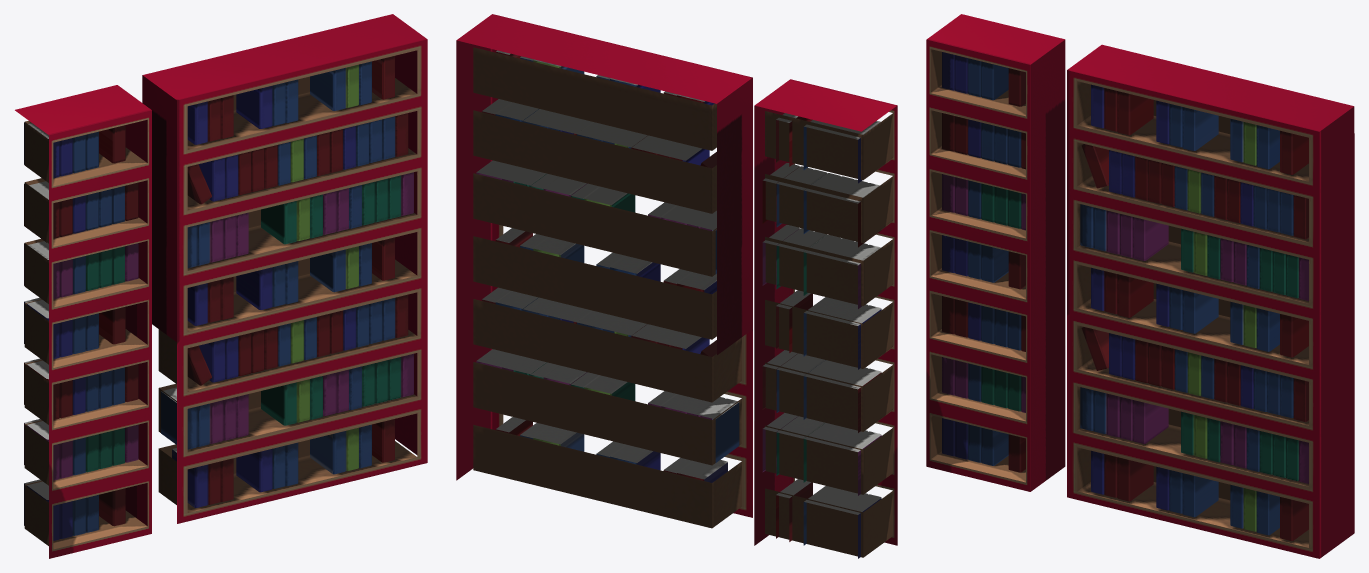
File: Tx_props_research_bookshelf.fbx
The picture shows the model from 3 angles, left to right: view 1: azimuth 30°, elevation 25°; view 2: azimuth 150°, elevation 25°; view 3: azimuth 330°, elevation 25°; orthographic projection. The views are drawn at different scales.
Parts seen in each view (by area): view 1: Tx_props_research_bookshelf1; view 2: Tx_props_research_bookshelf1; view 3: Tx_props_research_bookshelf1.
Boxes of the visible parts, x1,y1,x2,y2 form: Tx_props_research_bookshelf1: (15,14,427,558); Tx_props_research_bookshelf1: (456,14,897,558); Tx_props_research_bookshelf1: (926,14,1354,558).
Bounding box in the file's own units: 20.4 × 21.58 × 3.7.
